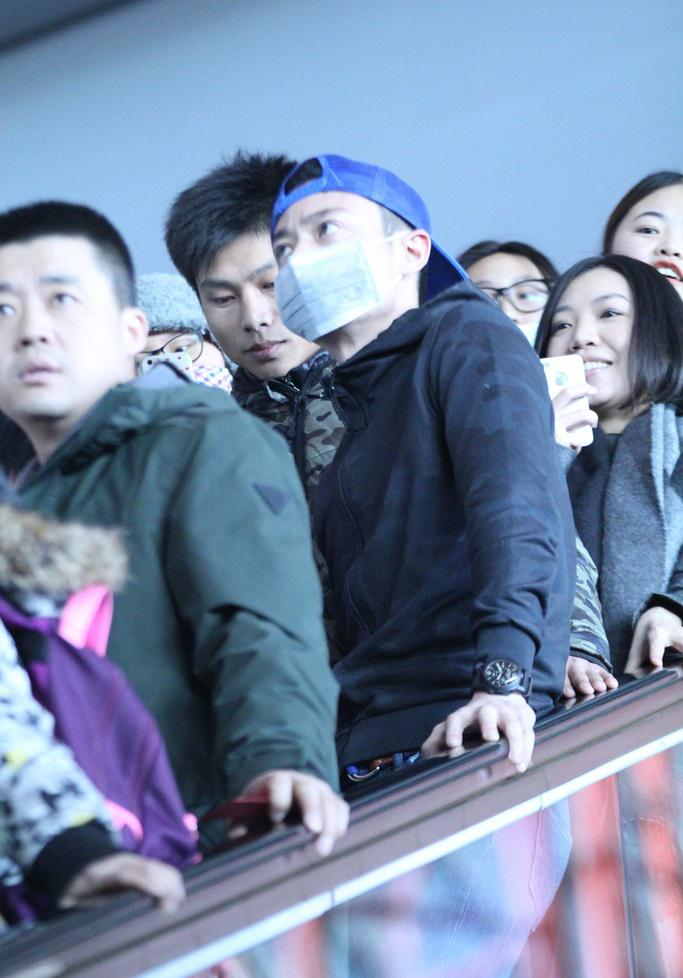NONE: (1, 264, 114, 414), (199, 256, 311, 374), (549, 296, 651, 401), (617, 201, 683, 299)
OK: (269, 203, 405, 339)
